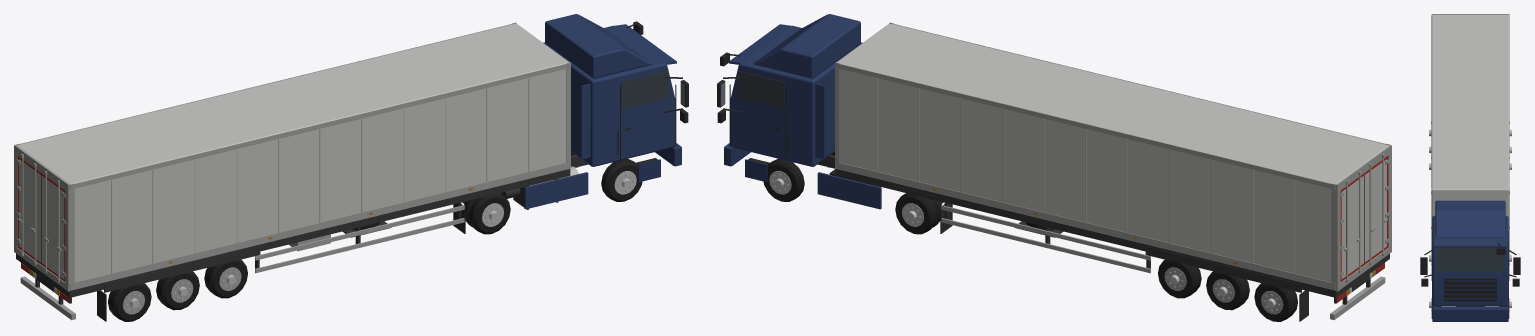
The model's file is SM_Prop_services_lorry_5.glb.
3 views of the same model, side by side, from view 1: azimuth 30°, elevation 25°; view 2: azimuth 150°, elevation 25°; view 3: azimuth 270°, elevation 25° (orthographic). The views are drawn at different scales.
Visible parts, largest first — view 1: SM_Prop_services_lorry_5; view 2: SM_Prop_services_lorry_5; view 3: SM_Prop_services_lorry_5.
Boxes of the visible parts, box(x1,y1,x2,y2) form: SM_Prop_services_lorry_5: box(14, 14, 688, 321); SM_Prop_services_lorry_5: box(717, 14, 1391, 321); SM_Prop_services_lorry_5: box(1420, 14, 1520, 321).
Bounding box in the file's own units: 16.9 × 4 × 3.3.
